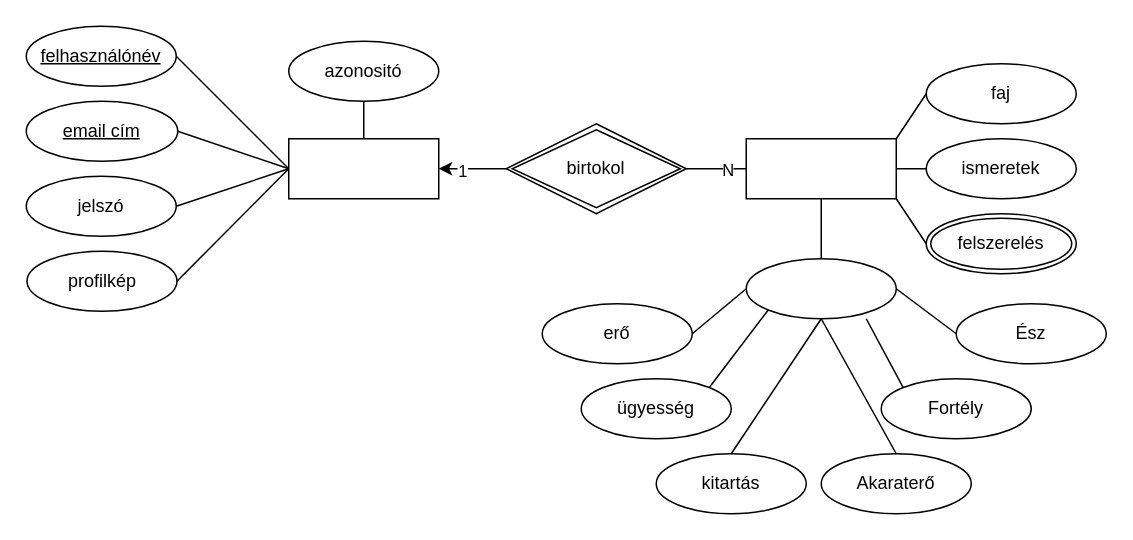
The diagram is 1133 pixels wide and 540 high, and some of its shapes have lost their labels. Here are the shapes that lost their labels. From the top down, the box of each, then its label:
(287, 137, 439, 199): Felhasználó
(745, 137, 896, 199): Karakter
(745, 257, 896, 319): tulajdonságok
